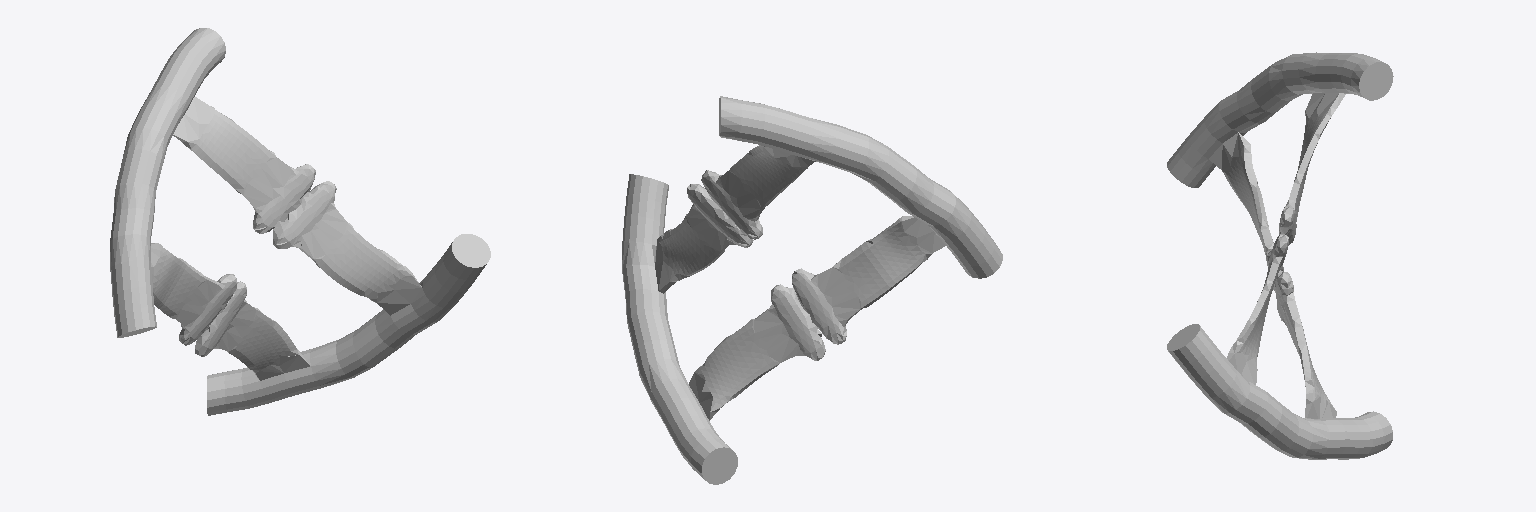
Rendered from DNA4.obj.
3 views of the same model, side by side, from view 1: azimuth 30°, elevation 25°; view 2: azimuth 150°, elevation 25°; view 3: azimuth 270°, elevation 25° (orthographic).
Visible parts, largest first — view 1: DNA3; view 2: DNA3; view 3: DNA3.
Boxes of the visible parts, x1=… form: DNA3: x1=110, y1=28, x2=490, y2=415; DNA3: x1=622, y1=96, x2=1002, y2=484; DNA3: x1=1167, y1=52, x2=1393, y2=459.
Bounding box in the file's own units: 4.43 × 4.42 × 2.35.